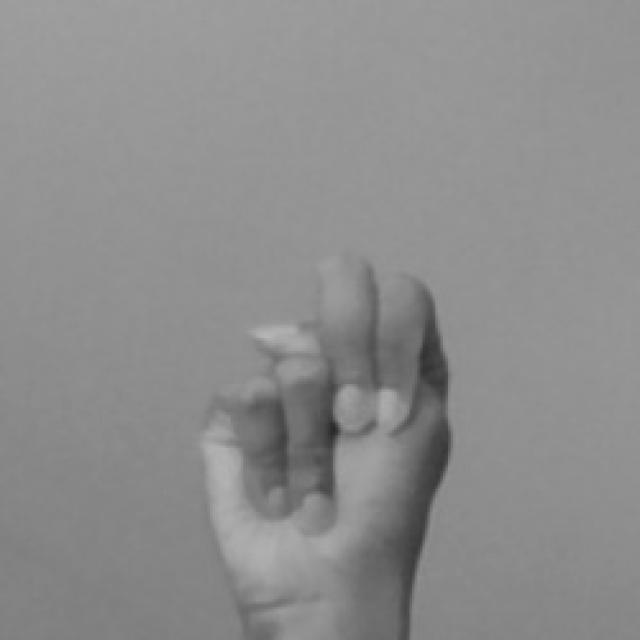N: (184, 248, 463, 640)
